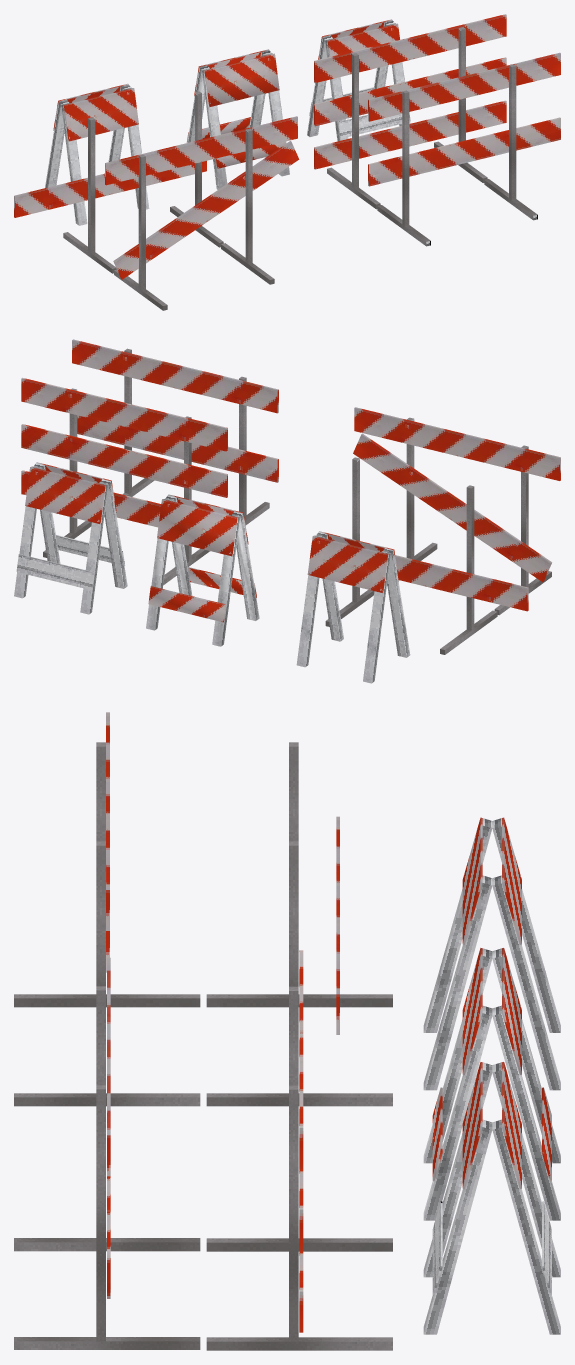
File: barriers.glb
3 renders of one model, top to bottom at view 1: azimuth 30°, elevation 25°; view 2: azimuth 150°, elevation 25°; view 3: azimuth 270°, elevation 25°, orthographic. The views are drawn at different scales.
Visible parts, largest first — view 1: Type_3_barrier_3_planks.001, Type_3_barrier_2_planks.001, Type_3_barrier_broken_planks.001, Type_2_barrier_top_bottom.001, Type_2_barrier_top.001, Type_2_barrier_top_bottom_wood.001, Type_3_barrier_plank.001, Type_3_barrier_stilts.001; view 2: Type_3_barrier_3_planks.001, Type_3_barrier_broken_planks.001, Type_3_barrier_2_planks.001, Type_2_barrier_top_bottom_wood.001, Type_2_barrier_top_bottom.001, Type_2_barrier_top.001, Type_3_barrier_plank.001, Type_3_barrier_stilts.001; view 3: Type_2_barrier_top_bottom_wood.001, Type_2_barrier_top_bottom.001, Type_2_barrier_top.001, Type_3_barrier_3_planks.001, Type_3_barrier_2_planks.001, Type_3_barrier_broken_planks.001, Type_3_barrier_stilts.001, Type_3_barrier_plank.001.
Part boxes in pixels (<box>): Type_3_barrier_3_planks.001: <box>314,14,506,209</box>; Type_3_barrier_2_planks.001: <box>368,52,560,246</box>; Type_3_barrier_broken_planks.001: <box>105,116,299,310</box>; Type_2_barrier_top_bottom.001: <box>186,49,289,189</box>; Type_2_barrier_top.001: <box>45,83,149,225</box>; Type_2_barrier_top_bottom_wood.001: <box>307,19,410,141</box>; Type_3_barrier_plank.001: <box>14,161,206,217</box>; Type_3_barrier_stilts.001: <box>63,91,223,273</box>; Type_3_barrier_3_planks.001: <box>21,377,227,584</box>; Type_3_barrier_broken_planks.001: <box>353,407,560,615</box>; Type_3_barrier_2_planks.001: <box>72,339,278,525</box>; Type_2_barrier_top_bottom_wood.001: <box>14,462,127,614</box>; Type_2_barrier_top_bottom.001: <box>146,494,259,646</box>; Type_2_barrier_top.001: <box>296,531,410,683</box>; Type_3_barrier_plank.001: <box>395,555,528,611</box>; Type_3_barrier_stilts.001: <box>325,457,497,654</box>; Type_2_barrier_top_bottom_wood.001: <box>423,1062,560,1334</box>; Type_2_barrier_top_bottom.001: <box>423,948,560,1220</box>; Type_2_barrier_top.001: <box>423,817,560,1090</box>; Type_3_barrier_3_planks.001: <box>206,950,392,1350</box>; Type_3_barrier_2_planks.001: <box>14,957,200,1349</box>; Type_3_barrier_broken_planks.001: <box>14,712,200,1106</box>; Type_3_barrier_stilts.001: <box>206,742,392,1106</box>; Type_3_barrier_plank.001: <box>336,816,339,1034</box>.
Size of the model in its own units: 5.52 by 1.51 by 2.84.
Materials: 1 (1 with a texture image).
